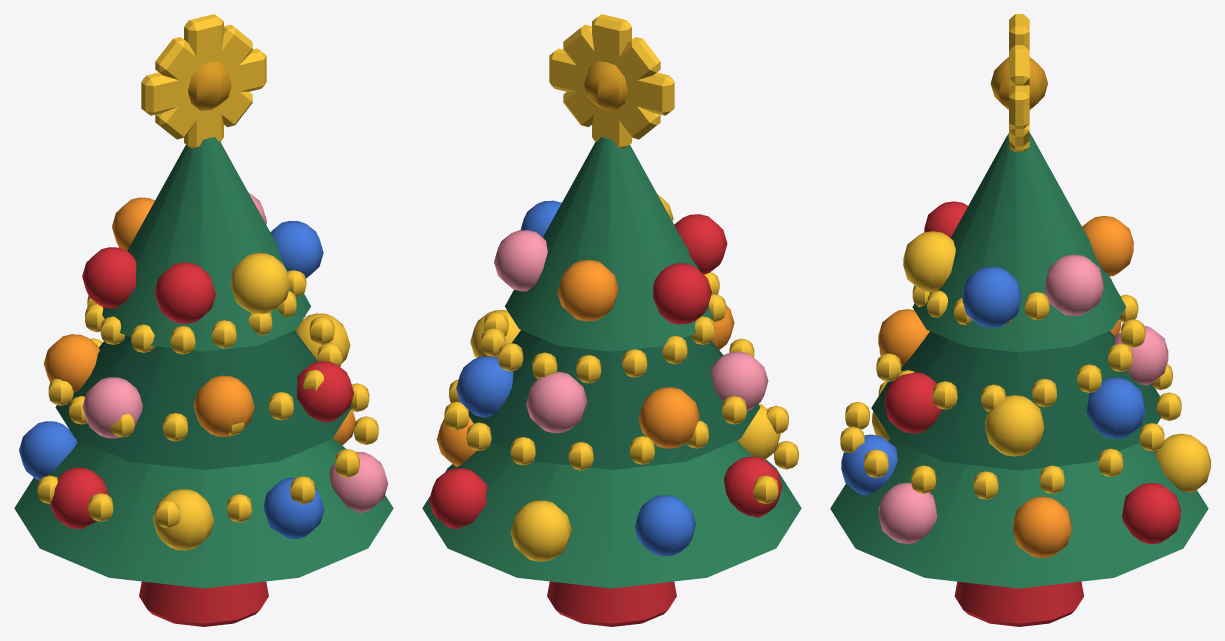
File: prop_tree_small.glb
3 views of the same model, side by side, from view 1: azimuth 30°, elevation 25°; view 2: azimuth 150°, elevation 25°; view 3: azimuth 270°, elevation 25° (orthographic).
Visible parts, largest first — view 1: tree_small; view 2: tree_small; view 3: tree_small.
Part boxes in pixels (left/top/right/bottom): tree_small: left=14, top=14, right=393, bottom=626; tree_small: left=422, top=14, right=801, bottom=626; tree_small: left=830, top=14, right=1210, bottom=626.
Size of the model in its own units: 0.926 by 1.56 by 0.9253.
1 material, 1 textured.
